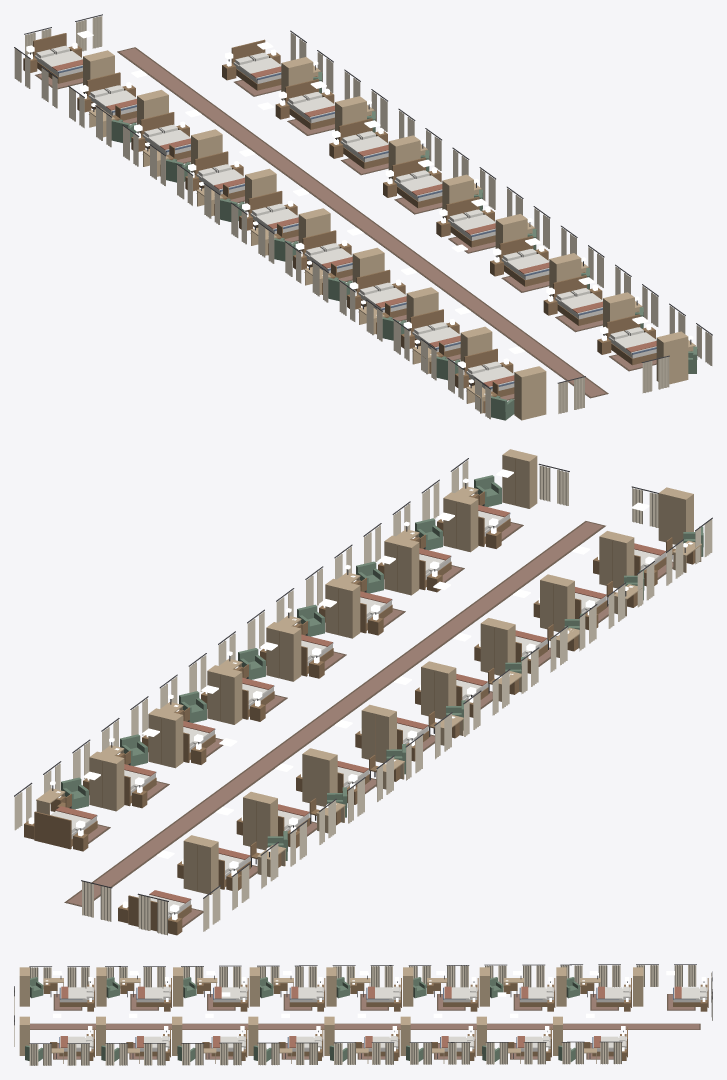
The model's file is fine-s1.glb.
3 views of the same model, one above another, from view 1: azimuth 30°, elevation 25°; view 2: azimuth 150°, elevation 25°; view 3: azimuth 270°, elevation 25° (orthographic). The views are drawn at different scales.
Parts seen in each view (by area): view 1: soft-s1, dresser.016, dresser.007, bed-frame.000, bed-frame.002, bed-frame.004, bed-frame.005, bed-frame.003, bed-frame.006, bed-frame.001, bed-frame.007, bed-frame.008 (+23 smaller); view 2: soft-s1, dresser.008, dresser.002, dresser.004, dresser.001, dresser.003, dresser.005, dresser.006, dresser.007, dresser.000, dresser.011, dresser.013 (+8 smaller); view 3: soft-s1, dresser.008, dresser.009, dresser.010, dresser.011, dresser.012, dresser.013, dresser.014, dresser.015, dresser.016, dresser.001, dresser.007 (+31 smaller).
Part boxes in pixels (box(x1,y1,x2,y2)): soft-s1: box(14, 14, 712, 419); dresser.016: box(514, 366, 546, 420); dresser.007: box(656, 331, 688, 384); bed-frame.000: box(231, 39, 281, 90); bed-frame.002: box(338, 118, 388, 168); bed-frame.004: box(446, 196, 495, 247); bed-frame.005: box(499, 236, 549, 286); bed-frame.003: box(392, 157, 442, 208); bed-frame.006: box(553, 275, 602, 325); bed-frame.001: box(285, 79, 334, 129); bed-frame.007: box(606, 314, 656, 365); bed-frame.008: box(33, 33, 82, 83); soft-s1: box(14, 458, 712, 935); dresser.008: box(183, 835, 218, 894); dresser.002: box(207, 665, 242, 724); dresser.004: box(325, 578, 360, 638); dresser.001: box(148, 708, 183, 768); dresser.003: box(266, 622, 301, 681); dresser.005: box(384, 535, 419, 595); dresser.006: box(443, 492, 478, 552); dresser.007: box(502, 449, 537, 508); dresser.000: box(89, 751, 124, 811); dresser.011: box(361, 704, 396, 762); dresser.013: box(480, 618, 515, 675); soft-s1: box(14, 964, 712, 1065); dresser.008: box(633, 967, 643, 1006); dresser.009: box(556, 967, 566, 1006); dresser.010: box(479, 967, 489, 1006); dresser.011: box(403, 967, 413, 1006); dresser.012: box(326, 967, 336, 1006); dresser.013: box(249, 967, 259, 1006); dresser.014: box(173, 967, 183, 1006); dresser.015: box(96, 967, 106, 1006); dresser.016: box(19, 967, 29, 1006); dresser.001: box(476, 1016, 486, 1055); dresser.007: box(19, 1016, 29, 1055).
Bounding box in the file's own units: 11.11 × 2.14 × 41.26.
